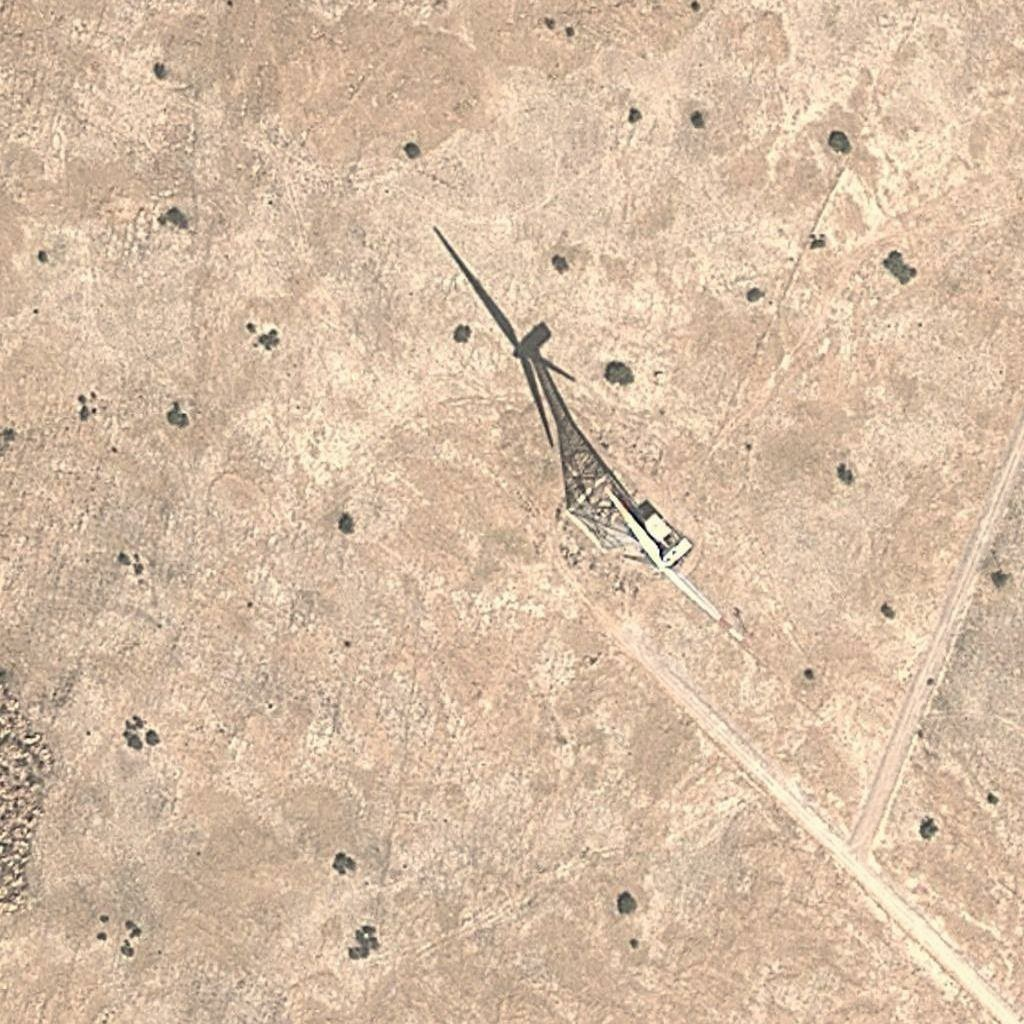Windmill: (432, 224, 597, 424)
